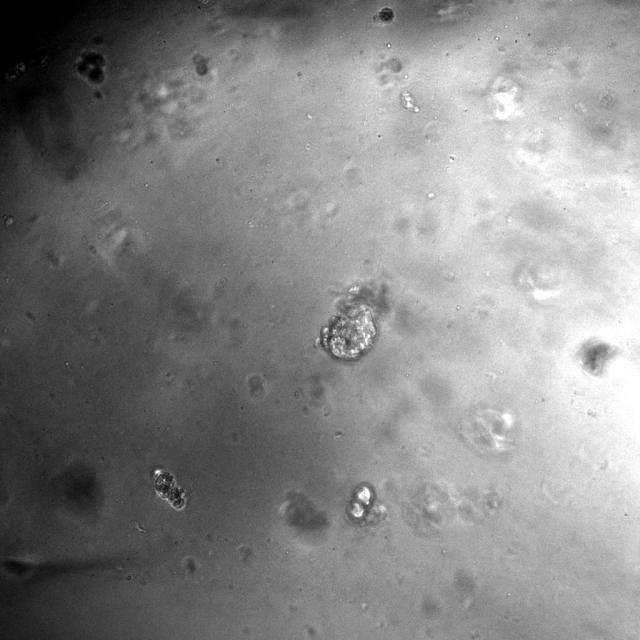organoid: (316, 282, 388, 361), (154, 470, 185, 509), (76, 51, 106, 86), (348, 482, 375, 519), (192, 53, 208, 75), (373, 7, 394, 23)
